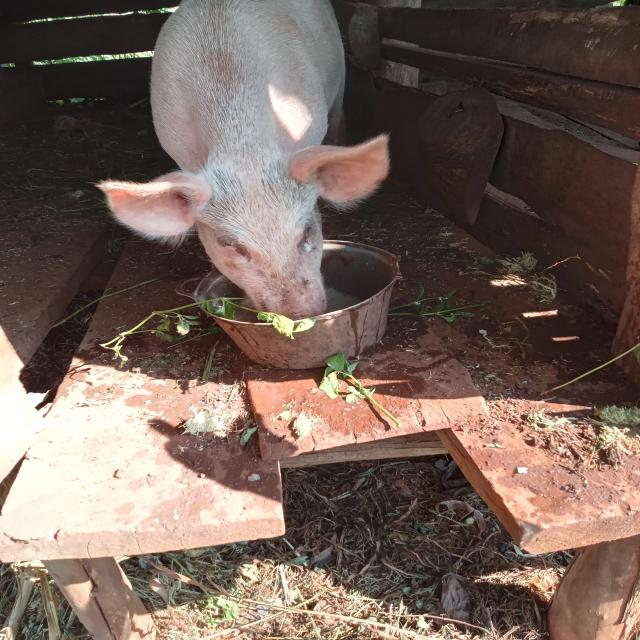pig: (68, 0, 528, 377)
